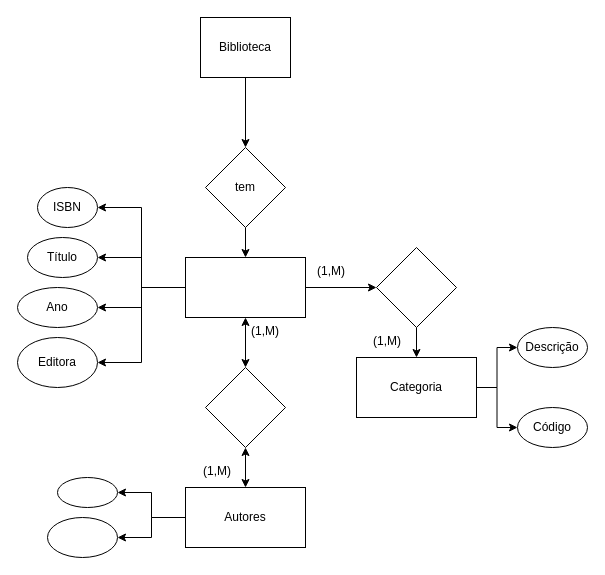
The diagram is 605 pixels wide and 575 high, and some of its shapes have lost their labels. Each missing label, with the centre of its shape:
"Escritos por" belongs at (x=245, y=407).
"Livros" belongs at (x=245, y=287).
"Nacionalidade" belongs at (x=82, y=537).
"Nome" belongs at (x=87, y=492).
"Pertence a" belongs at (x=416, y=287).
